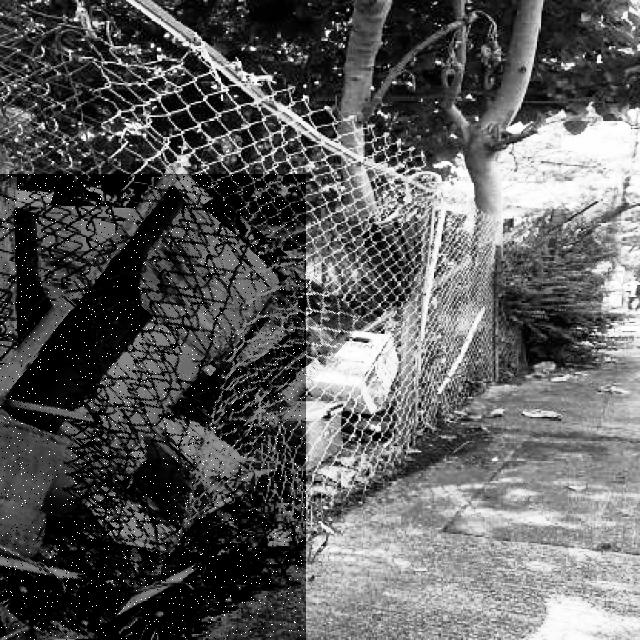anomaly-fence: (0, 174, 306, 640)
